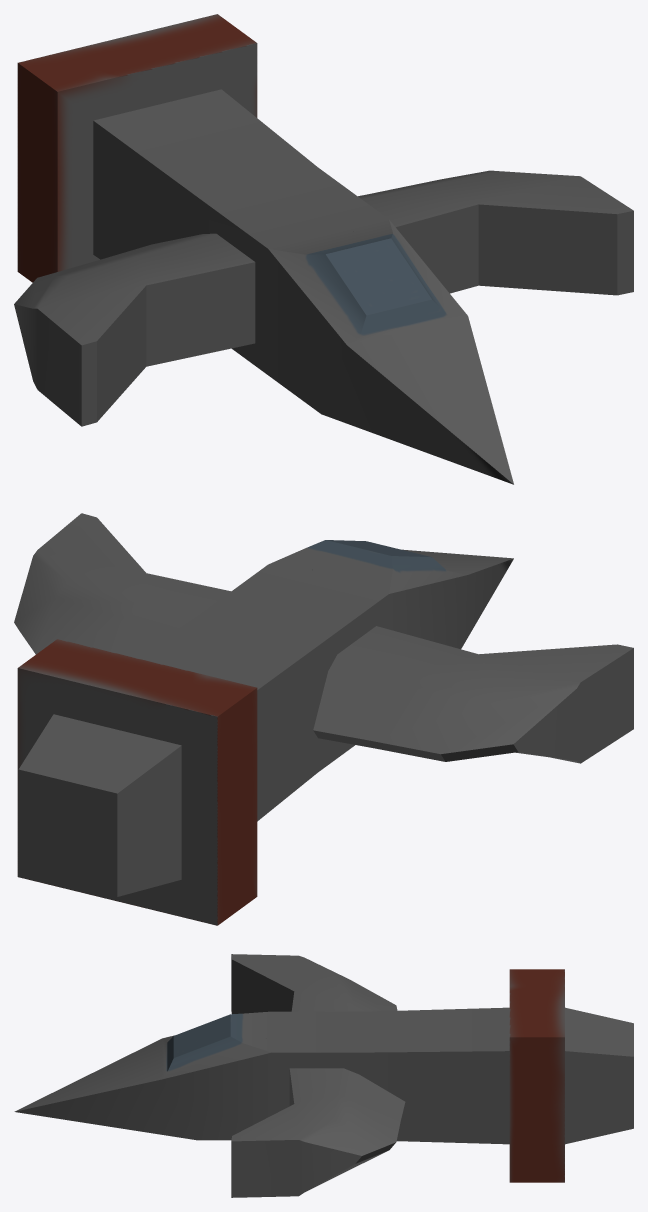
The model's file is Ship1.fbx.
3 views of the same model, one above another, from view 1: azimuth 30°, elevation 25°; view 2: azimuth 150°, elevation 25°; view 3: azimuth 270°, elevation 25° (orthographic). The views are drawn at different scales.
Visible parts, largest first — view 1: Ship; view 2: Ship; view 3: Ship.
Boxes of the visible parts, x1=… form: Ship: x1=14, y1=14, x2=633, y2=484; Ship: x1=14, y1=513, x2=633, y2=925; Ship: x1=14, y1=954, x2=633, y2=1197.
Size of the model in its own units: 67.5 by 24.42 by 94.44.
Materials: 1 (1 with a texture image).
